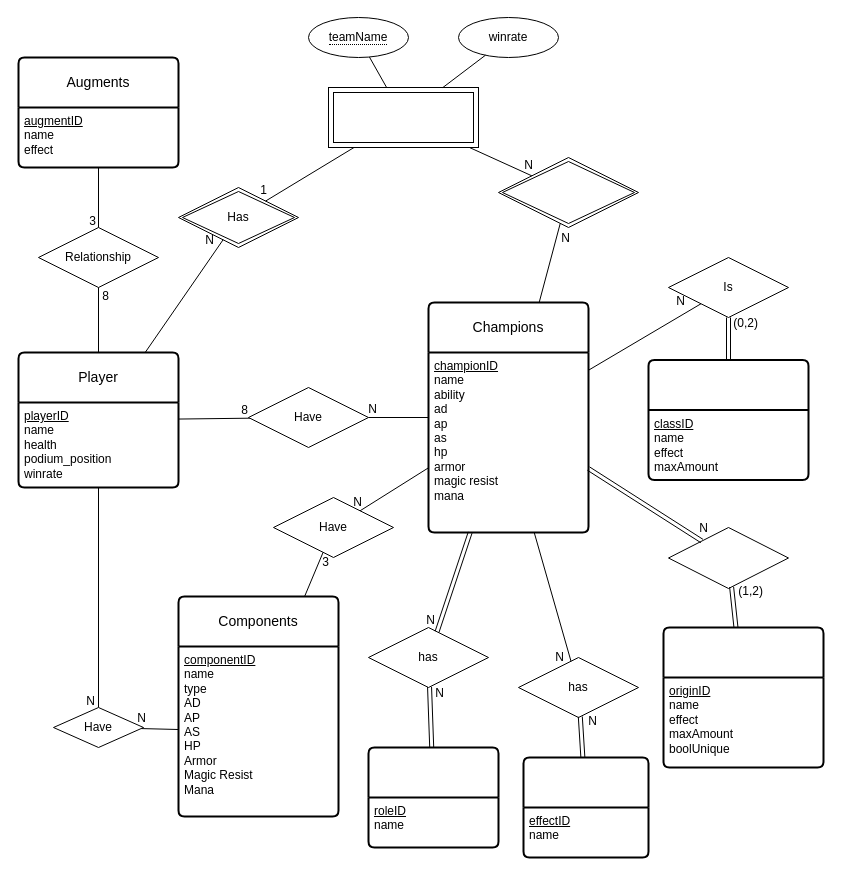
The diagram is 841 pixels wide and 876 high, and some of its shapes have lost their labels. Each missing label, with the box of its shape:
Classes: (647, 358, 809, 480)
Effects: (522, 756, 649, 858)
From: (668, 526, 788, 588)
Has/Contains/In: (498, 156, 638, 228)
Origins: (662, 626, 824, 768)
Roles: (367, 746, 499, 848)
Team_Composition: (328, 86, 478, 148)
